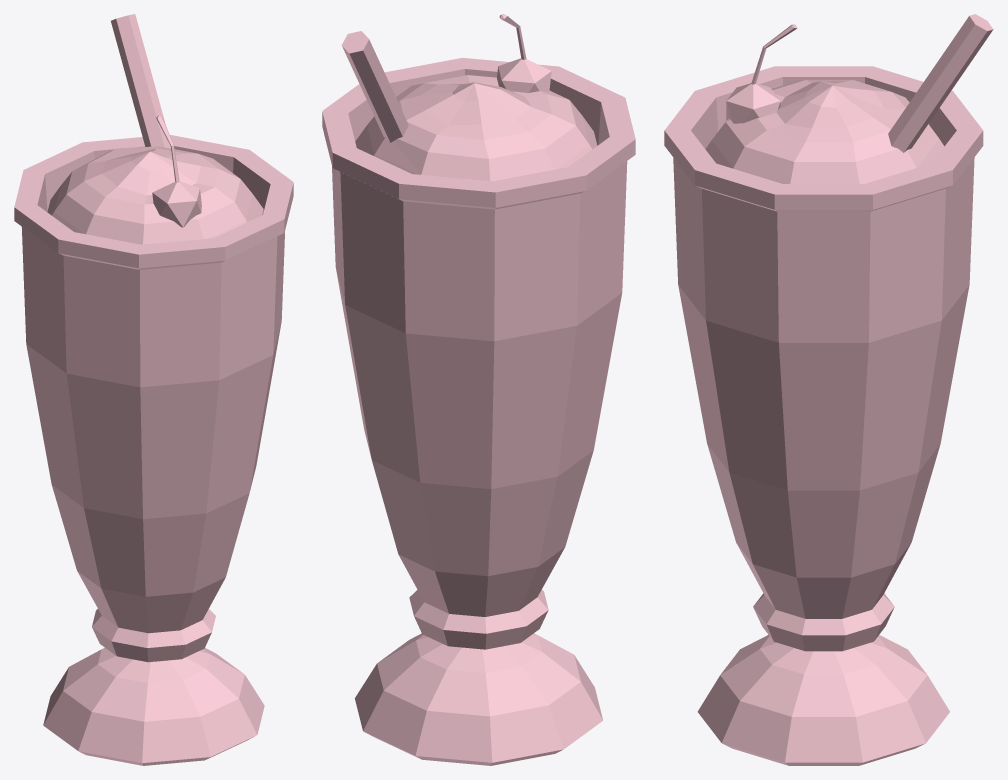
File: q-milkshake.glb
The picture shows the model from 3 angles, left to right: view 1: azimuth 30°, elevation 25°; view 2: azimuth 150°, elevation 25°; view 3: azimuth 270°, elevation 25°; orthographic projection. The views are drawn at different scales.
Parts seen in each view (by area): view 1: Glass, Milkshake; view 2: Glass, Milkshake; view 3: Glass, Milkshake.
Boxes of the visible parts, x1,y1,x2,y2 form: Glass: (14,135,293,765); Milkshake: (47,14,263,244); Glass: (322,57,635,765); Milkshake: (341,14,597,181); Glass: (664,66,983,765); Milkshake: (705,14,993,183).
Size of the model in its own units: 0.7046 by 1.86 by 0.7645.
